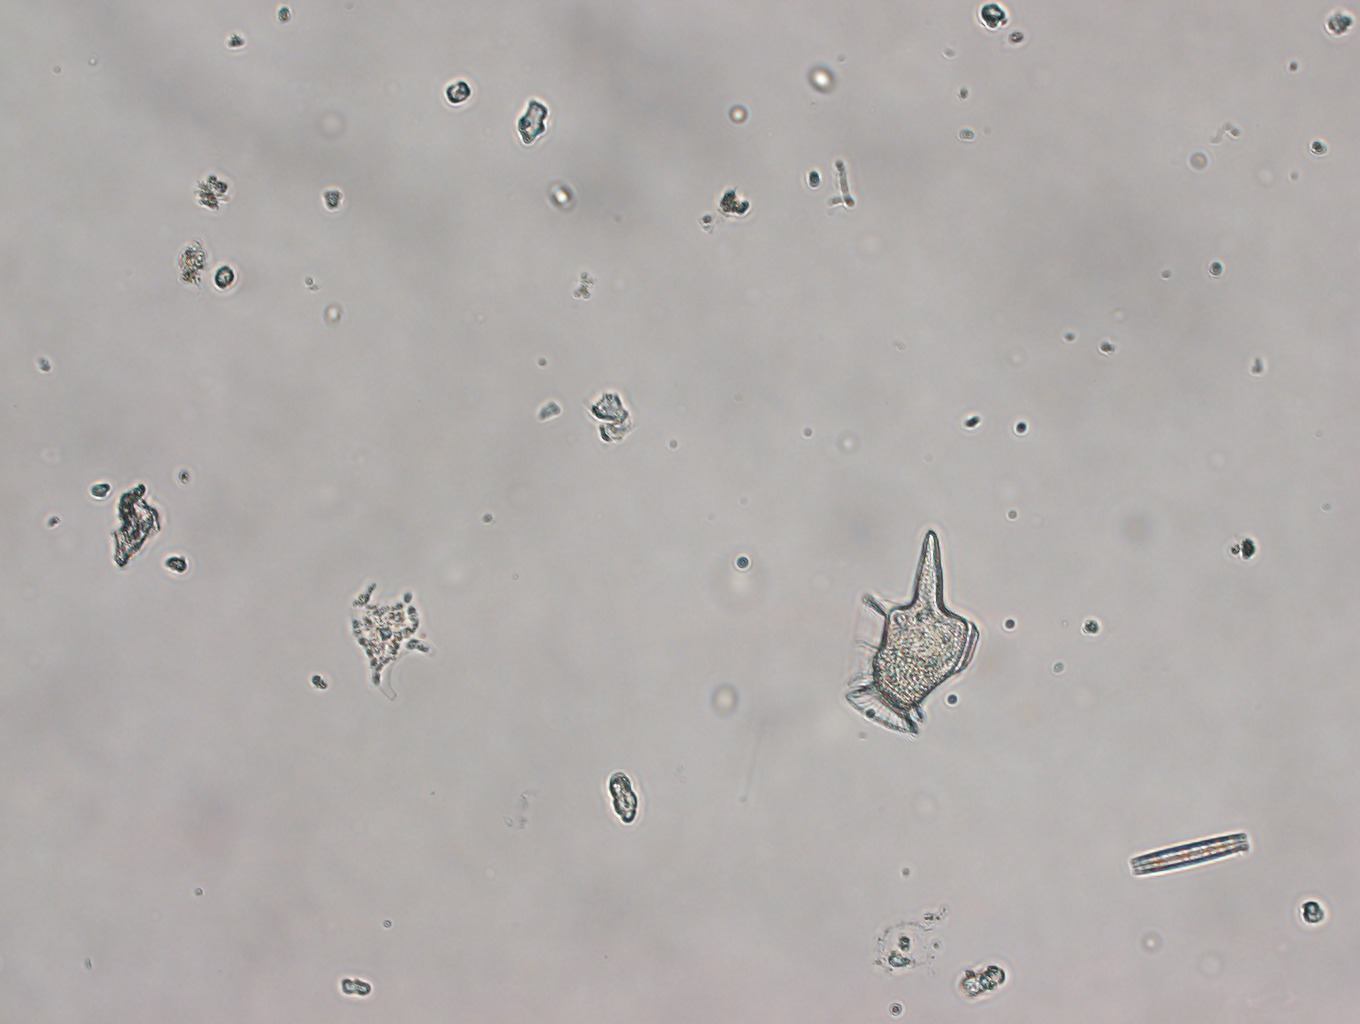dinophysis caudata: (839, 524, 984, 743)
